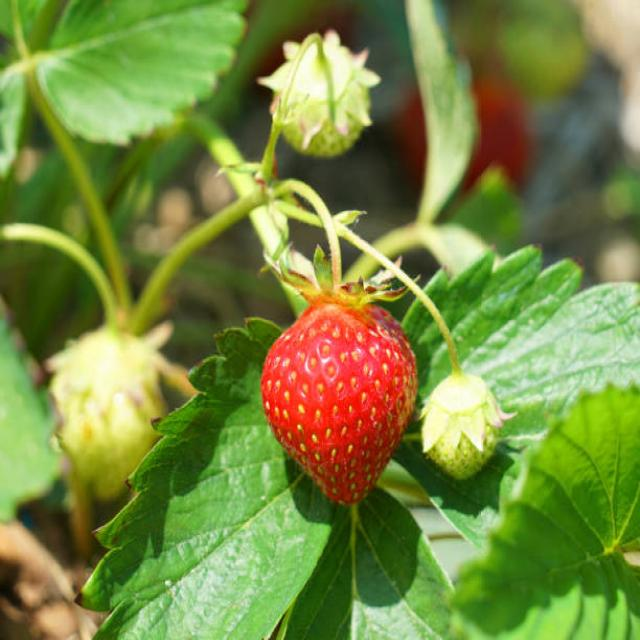Healthy Fruit: (260, 302, 419, 508)
